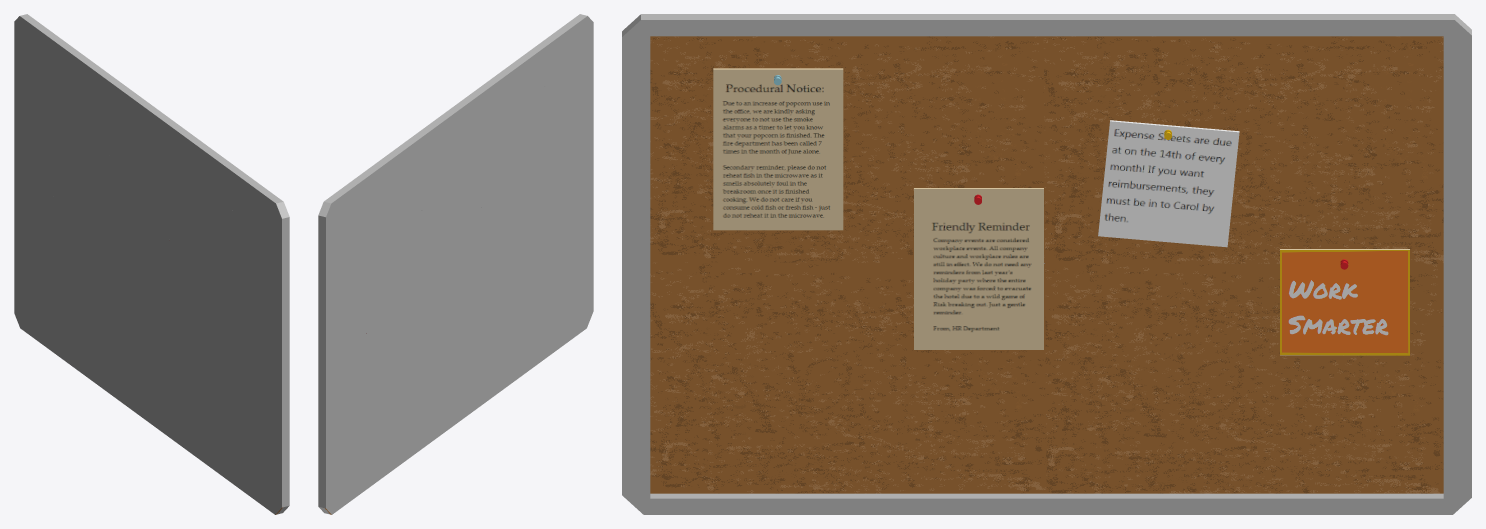
Rendered from corkboard.fbx.
3 views of the same model, side by side, from view 1: azimuth 30°, elevation 25°; view 2: azimuth 150°, elevation 25°; view 3: azimuth 270°, elevation 25° (orthographic). The views are drawn at different scales.
Parts seen in each view (by area): view 1: Cube; view 2: Cube; view 3: Cube, Cube.001, Cube.002, Cube.003, Cube.004.
Part boxes in pixels (x1,y1,x2,y2): Cube: [14, 14, 289, 514]; Cube: [318, 14, 593, 514]; Cube: [622, 14, 1471, 514]; Cube.001: [713, 68, 843, 230]; Cube.002: [914, 188, 1043, 349]; Cube.003: [1098, 120, 1239, 247]; Cube.004: [1280, 249, 1409, 355].
Size of the model in its own units: 45.99 by 1582 by 2461.
